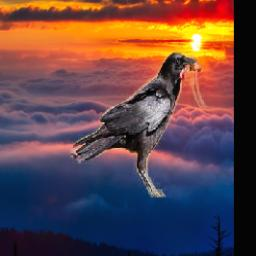Crow: (70, 47, 211, 198)
